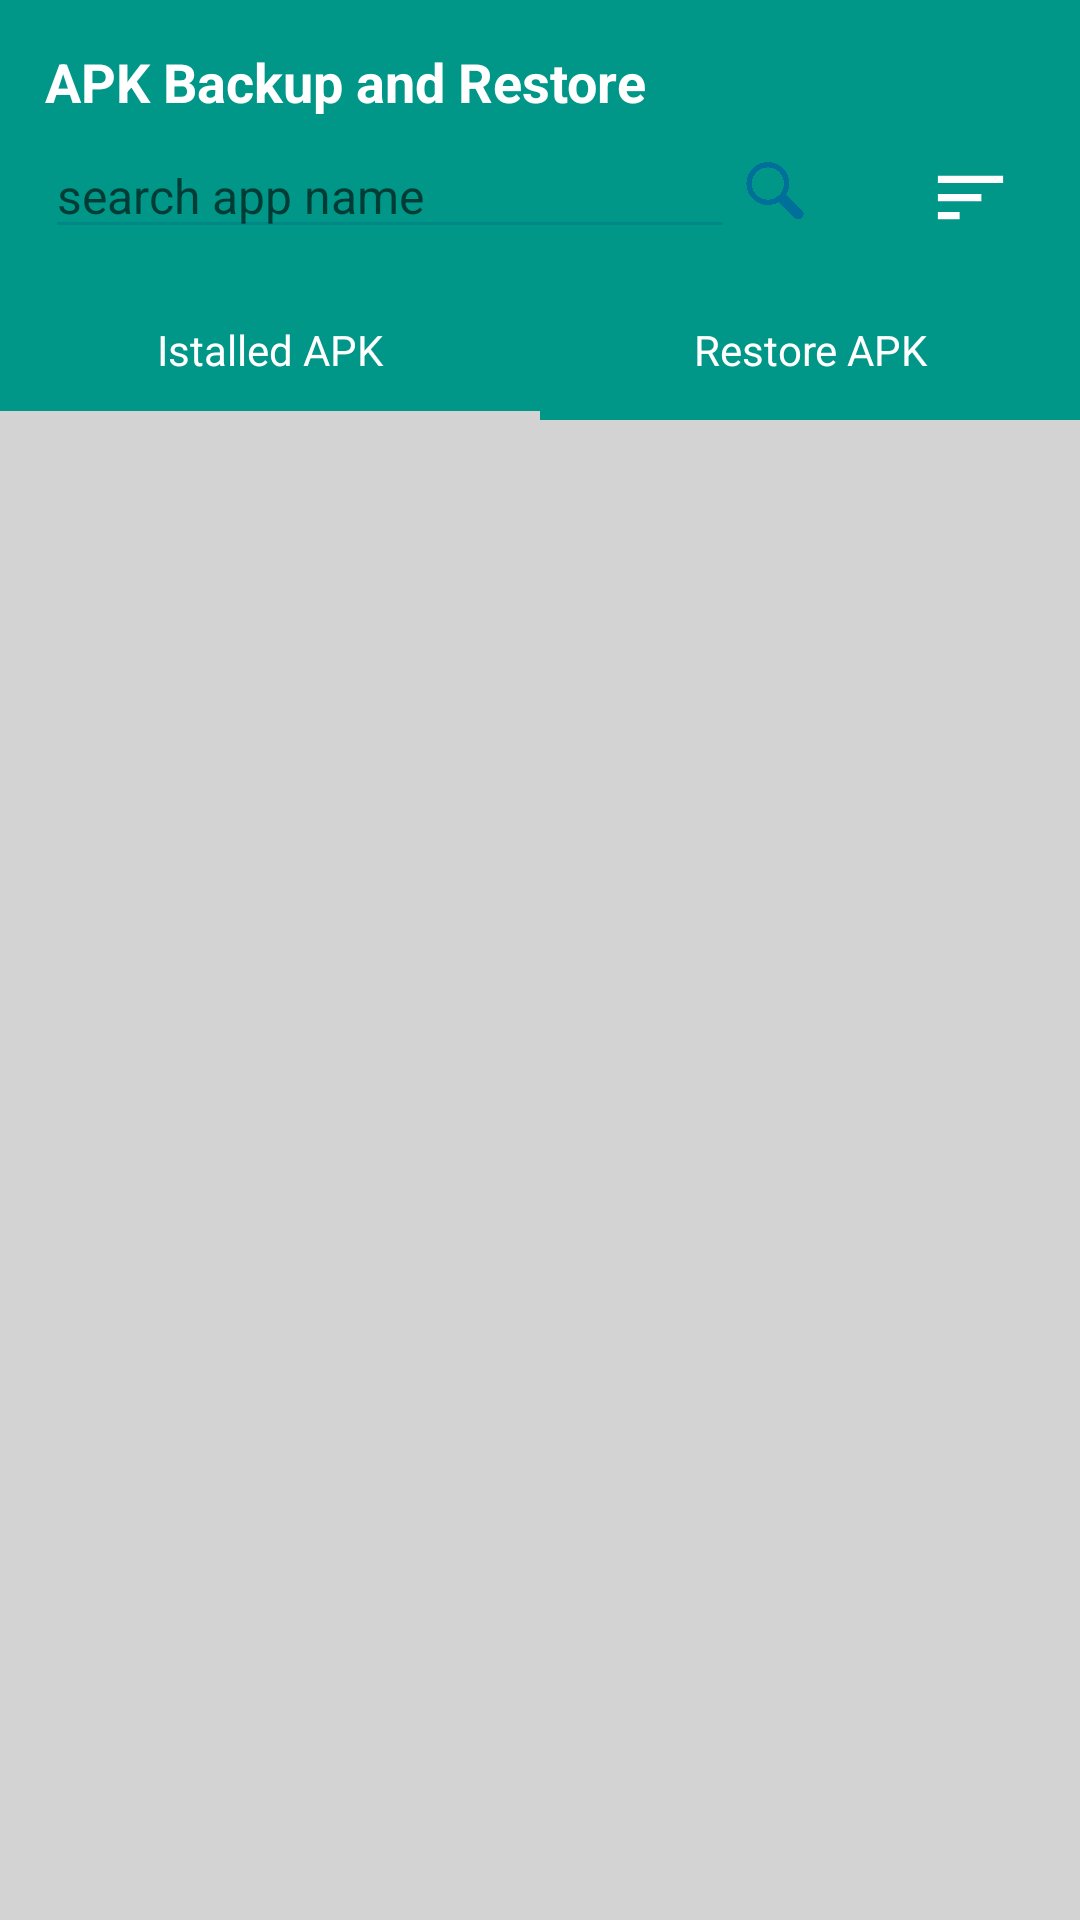

Named icons in this screenshot (1080px x 1920px) and their centers, point (x, y):
sort: point (970, 197)
